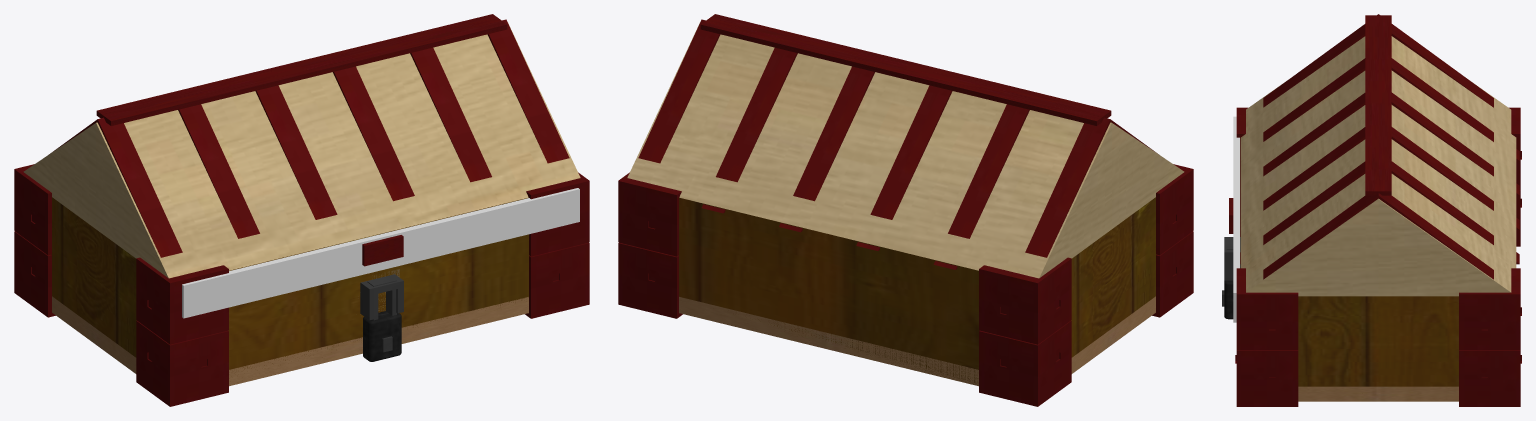
File: Bag_Suitcase_Treasure_chest__0059.glb
3 views of the same model, side by side, from view 1: azimuth 30°, elevation 25°; view 2: azimuth 150°, elevation 25°; view 3: azimuth 270°, elevation 25° (orthographic). The views are drawn at different scales.
Visible parts, largest first — view 1: chest_lid::lid_panel, chest_body::wall_front, chest_lid::lid_front_skirt, chest_body::wall_left, chest_lid::ridge_cap, chest_body::floor_panel, chest_body::corner_bracket_0, chest_body::corner_bracket_4, chest_body::corner_bracket_1, chest_lid::lid_strap_0, chest_lid::lid_strap_5, chest_lid::lid_strap_3 (+10 smaller); view 2: chest_lid::lid_panel, chest_body::wall_back, chest_body::wall_left, chest_lid::ridge_cap, chest_body::floor_panel, chest_body::corner_bracket_6, chest_body::corner_bracket_2, chest_body::corner_bracket_7, chest_body::corner_bracket_3, chest_lid::lid_strap_0, chest_lid::lid_strap_1, chest_lid::lid_strap_2 (+5 smaller); view 3: chest_lid::lid_panel, chest_body::wall_right, chest_lid::ridge_cap, chest_body::corner_bracket_5, chest_body::corner_bracket_7, chest_body::corner_bracket_1, chest_body::corner_bracket_3, chest_lid::lid_strap_5, chest_body::floor_panel, chest_lid::lid_strap_2, chest_lid::lid_strap_4, chest_lid::lid_strap_1 (+7 smaller).
Part boxes in pixels (<box>): chest_lid::lid_panel: <box>23,23,580,278</box>; chest_body::wall_front: <box>228,197,529,369</box>; chest_lid::lid_front_skirt: <box>182,188,579,318</box>; chest_body::wall_left: <box>51,197,136,357</box>; chest_lid::ridge_cap: <box>96,14,507,125</box>; chest_body::floor_panel: <box>52,296,528,386</box>; chest_body::corner_bracket_0: <box>136,320,228,406</box>; chest_body::corner_bracket_4: <box>136,257,228,344</box>; chest_body::corner_bracket_1: <box>525,242,589,318</box>; chest_lid::lid_strap_0: <box>50,117,182,257</box>; chest_lid::lid_strap_5: <box>487,19,569,163</box>; chest_lid::lid_strap_3: <box>333,66,414,201</box>; chest_lid::lid_panel: <box>627,23,1184,278</box>; chest_body::wall_back: <box>678,197,979,385</box>; chest_body::wall_left: <box>1071,197,1156,357</box>; chest_lid::ridge_cap: <box>700,14,1111,125</box>; chest_body::floor_panel: <box>679,296,1155,386</box>; chest_body::corner_bracket_6: <box>979,257,1071,344</box>; chest_body::corner_bracket_2: <box>979,320,1071,406</box>; chest_body::corner_bracket_7: <box>618,172,681,256</box>; chest_body::corner_bracket_3: <box>618,242,682,318</box>; chest_lid::lid_strap_0: <box>1025,117,1157,257</box>; chest_lid::lid_strap_1: <box>933,104,1029,269</box>; chest_lid::lid_strap_2: <box>856,85,952,250</box>; chest_lid::lid_panel: <box>1240,36,1516,296</box>; chest_body::wall_right: <box>1298,296,1458,386</box>; chest_lid::ridge_cap: <box>1365,15,1391,195</box>; chest_body::corner_bracket_5: <box>1236,268,1298,350</box>; chest_body::corner_bracket_7: <box>1459,268,1521,350</box>; chest_body::corner_bracket_1: <box>1235,350,1298,406</box>; chest_body::corner_bracket_3: <box>1459,350,1521,406</box>; chest_lid::lid_strap_5: <box>1263,193,1493,279</box>; chest_body::floor_panel: <box>1298,386,1458,401</box>; chest_lid::lid_strap_2: <box>1240,92,1519,195</box>; chest_lid::lid_strap_4: <box>1240,161,1519,264</box>; chest_lid::lid_strap_1: <box>1240,58,1519,160</box>.
Bounding box in the file's own units: 0.539 × 0.2835 × 0.364.
Materials: 8 (7 with a texture image).
